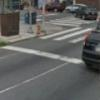crosswalks: (37, 26, 96, 44)
